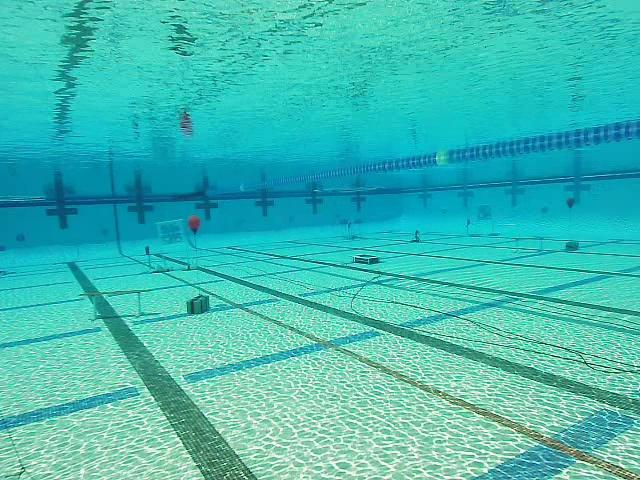buoy: (187, 217, 202, 237)
dropper: (354, 252, 377, 265)
table: (340, 215, 365, 242)
torpedo: (157, 220, 184, 246), (476, 204, 495, 222)
